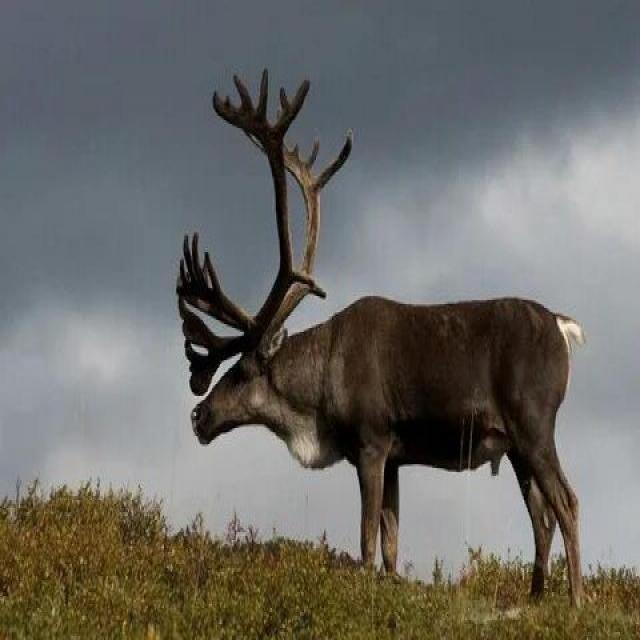deer: (160, 98, 576, 607)
